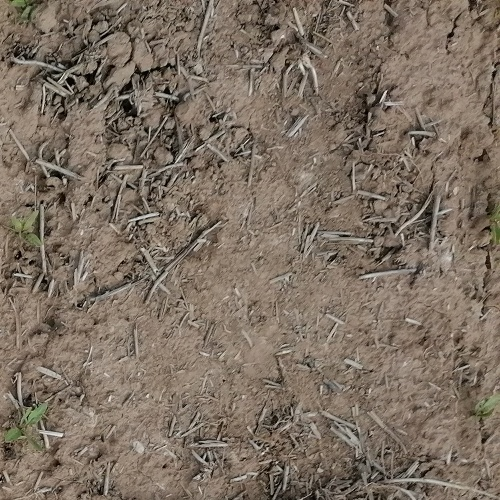beet: (3, 405, 47, 446), (11, 211, 43, 248), (473, 395, 500, 419), (492, 204, 500, 247)
